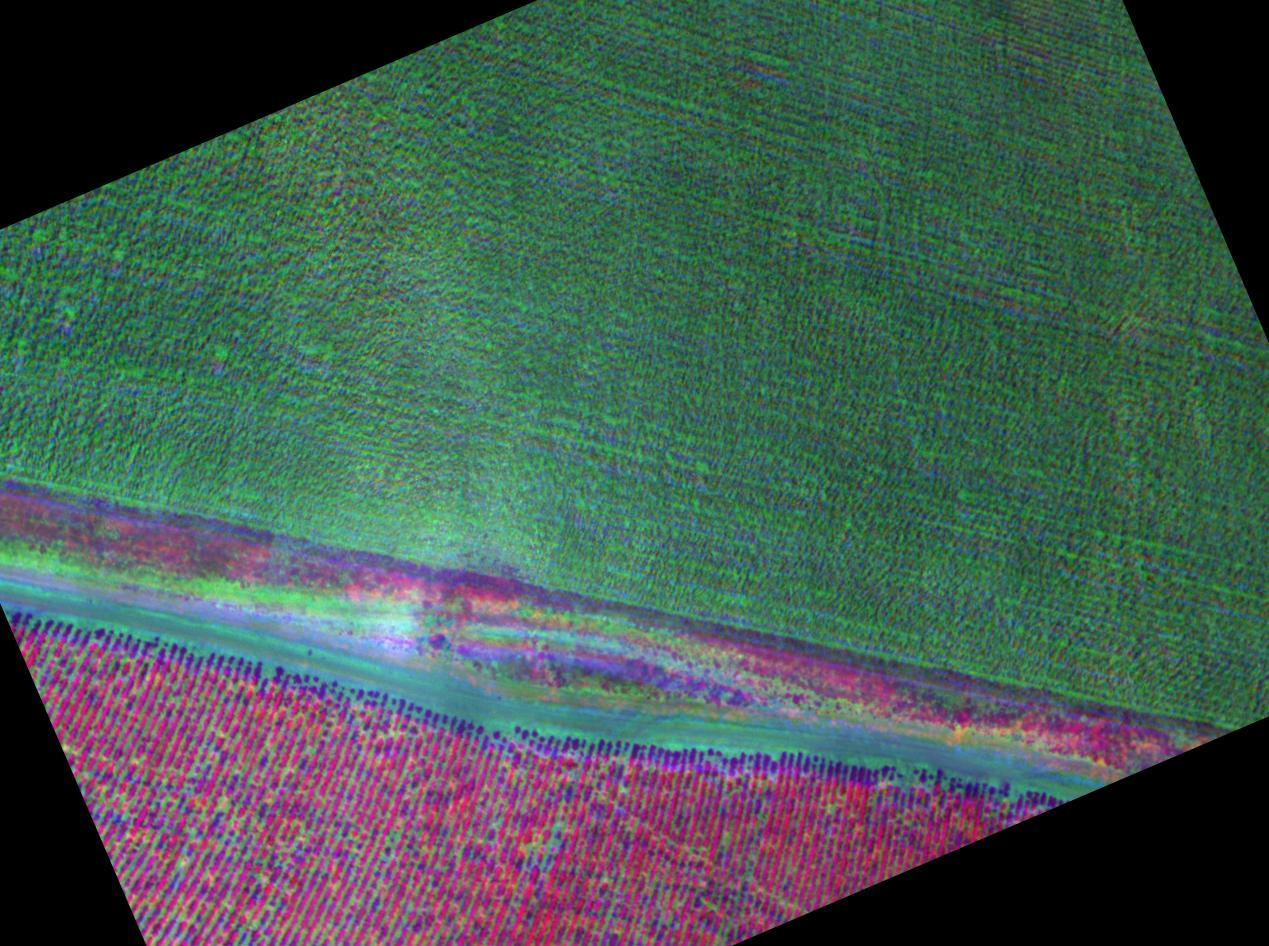dc: (726, 768, 815, 852), (216, 795, 293, 867), (496, 793, 567, 861), (91, 745, 164, 806), (351, 810, 403, 864)
